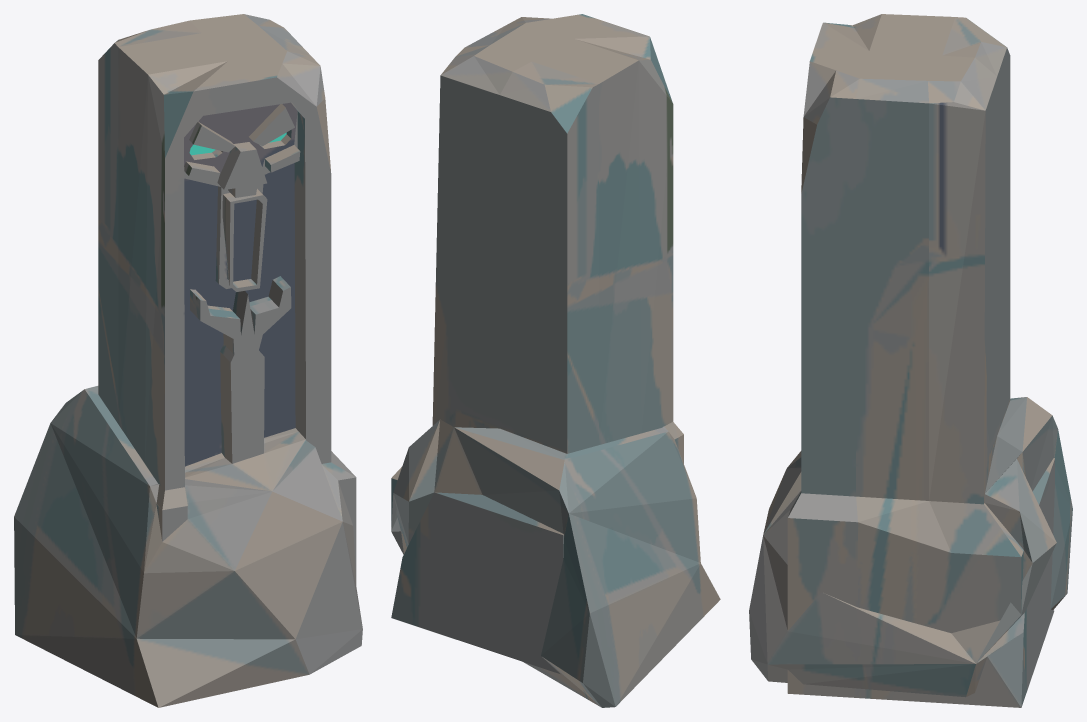
Rendered from s_stone ghost02_03.fbx.
3 views of the same model, side by side, from view 1: azimuth 30°, elevation 25°; view 2: azimuth 150°, elevation 25°; view 3: azimuth 270°, elevation 25° (orthographic). The views are drawn at different scales.
Visible parts, largest first — view 1: s_stone ghost02_03; view 2: s_stone ghost02_03; view 3: s_stone ghost02_03.
Part boxes in pixels (left/top/right/bottom): s_stone ghost02_03: left=14, top=14, right=362, bottom=707; s_stone ghost02_03: left=391, top=14, right=720, bottom=707; s_stone ghost02_03: left=749, top=14, right=1072, bottom=707.
Bounding box in the file's own units: 167 × 383 × 179.
1 material, 1 textured.
